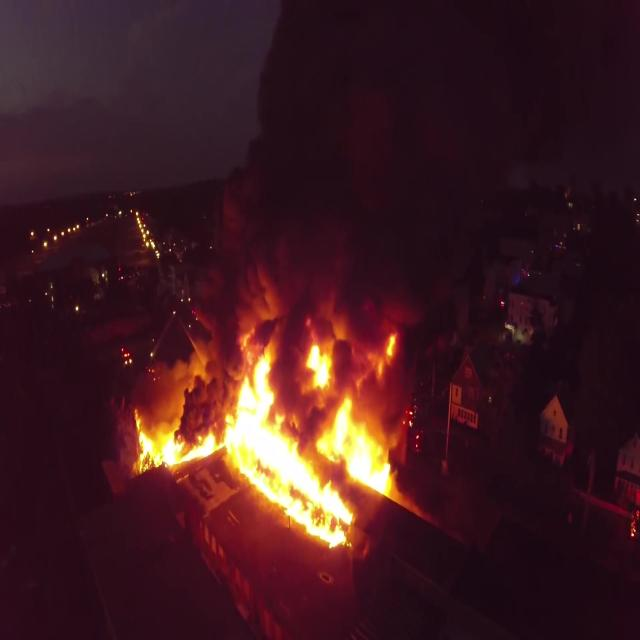Fire: (126, 334, 402, 546)
Smoke: (178, 0, 483, 448)
